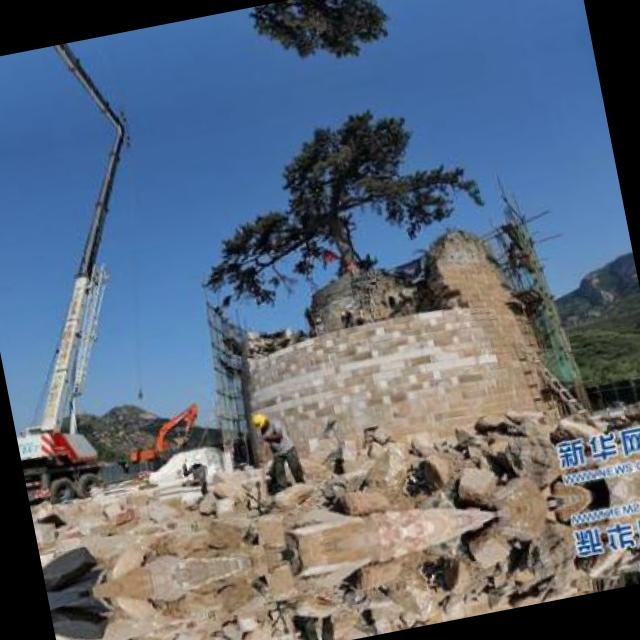helmet: (247, 409, 270, 434)
